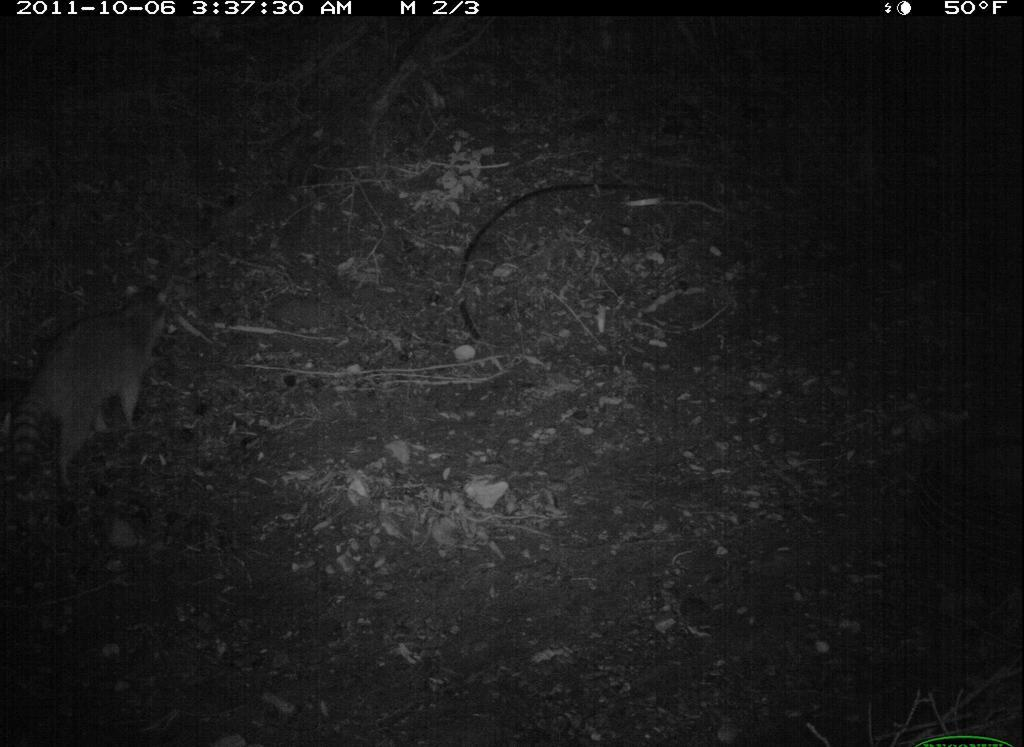raccoon: (7, 269, 189, 498)
